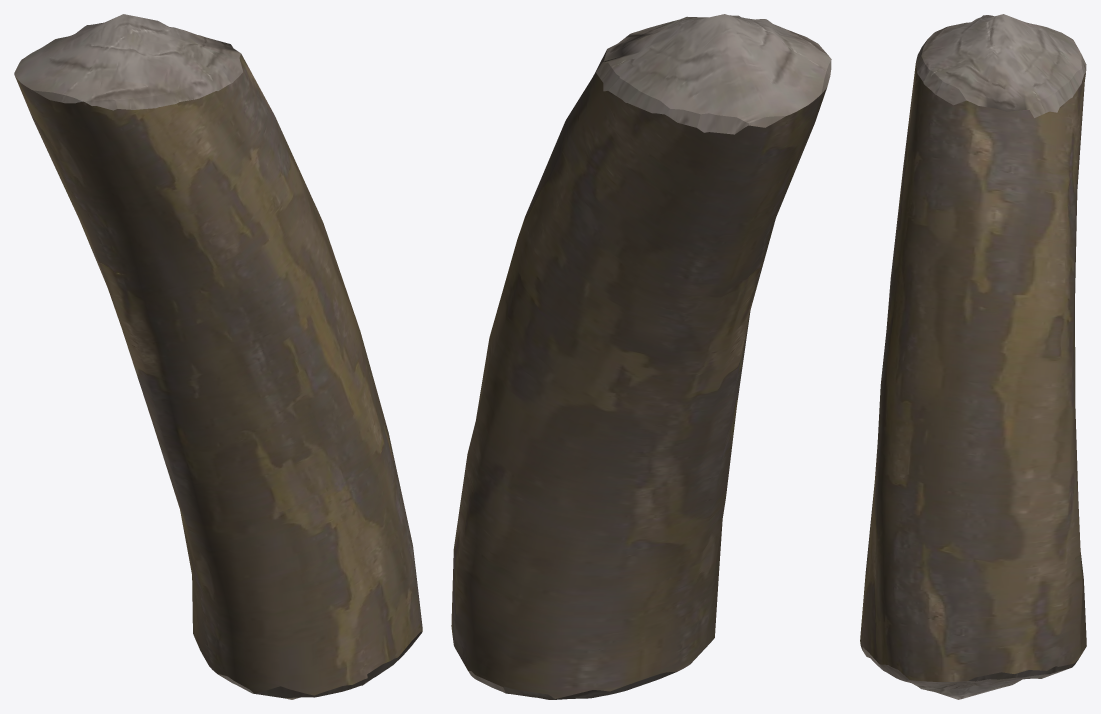
3 renders of one model, left to right at view 1: azimuth 30°, elevation 25°; view 2: azimuth 150°, elevation 25°; view 3: azimuth 270°, elevation 25°, orthographic. The views are drawn at different scales.
Visible parts, largest first — view 1: SM_Yew_02_quarter_04_LOD0; view 2: SM_Yew_02_quarter_04_LOD0; view 3: SM_Yew_02_quarter_04_LOD0.
Boxes of the visible parts, x1=… form: SM_Yew_02_quarter_04_LOD0: x1=14, y1=14, x2=422, y2=699; SM_Yew_02_quarter_04_LOD0: x1=451, y1=14, x2=831, y2=699; SM_Yew_02_quarter_04_LOD0: x1=860, y1=14, x2=1086, y2=699.
Bounding box in the file's own units: 1.24 × 2.37 × 0.7921.
1 material, 1 textured.
